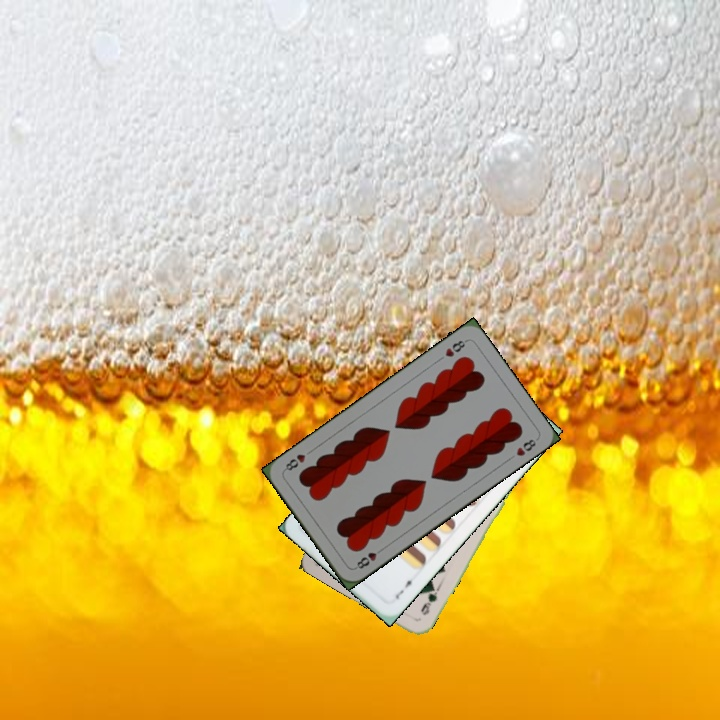E7: (391, 574, 418, 601)
G9: (417, 583, 442, 618)
H8: (351, 544, 386, 572), (441, 336, 470, 360)
